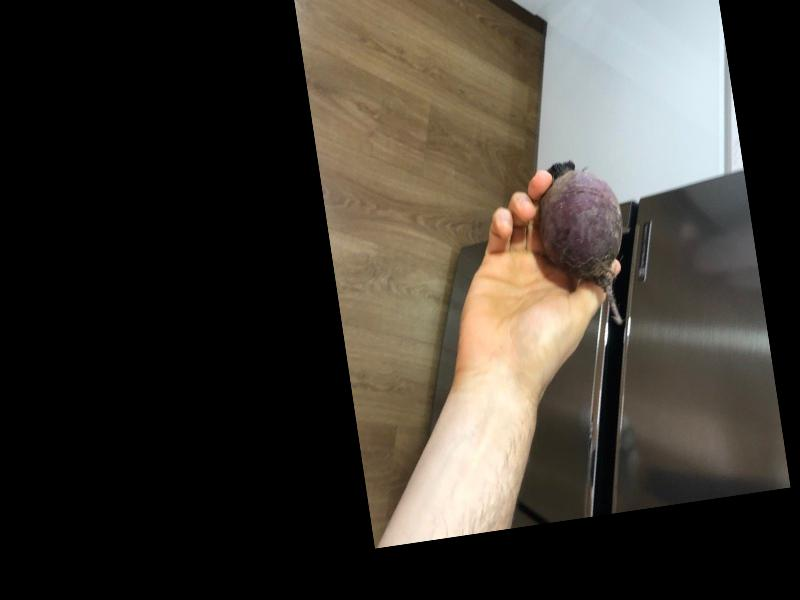Beet: (532, 153, 635, 331)
